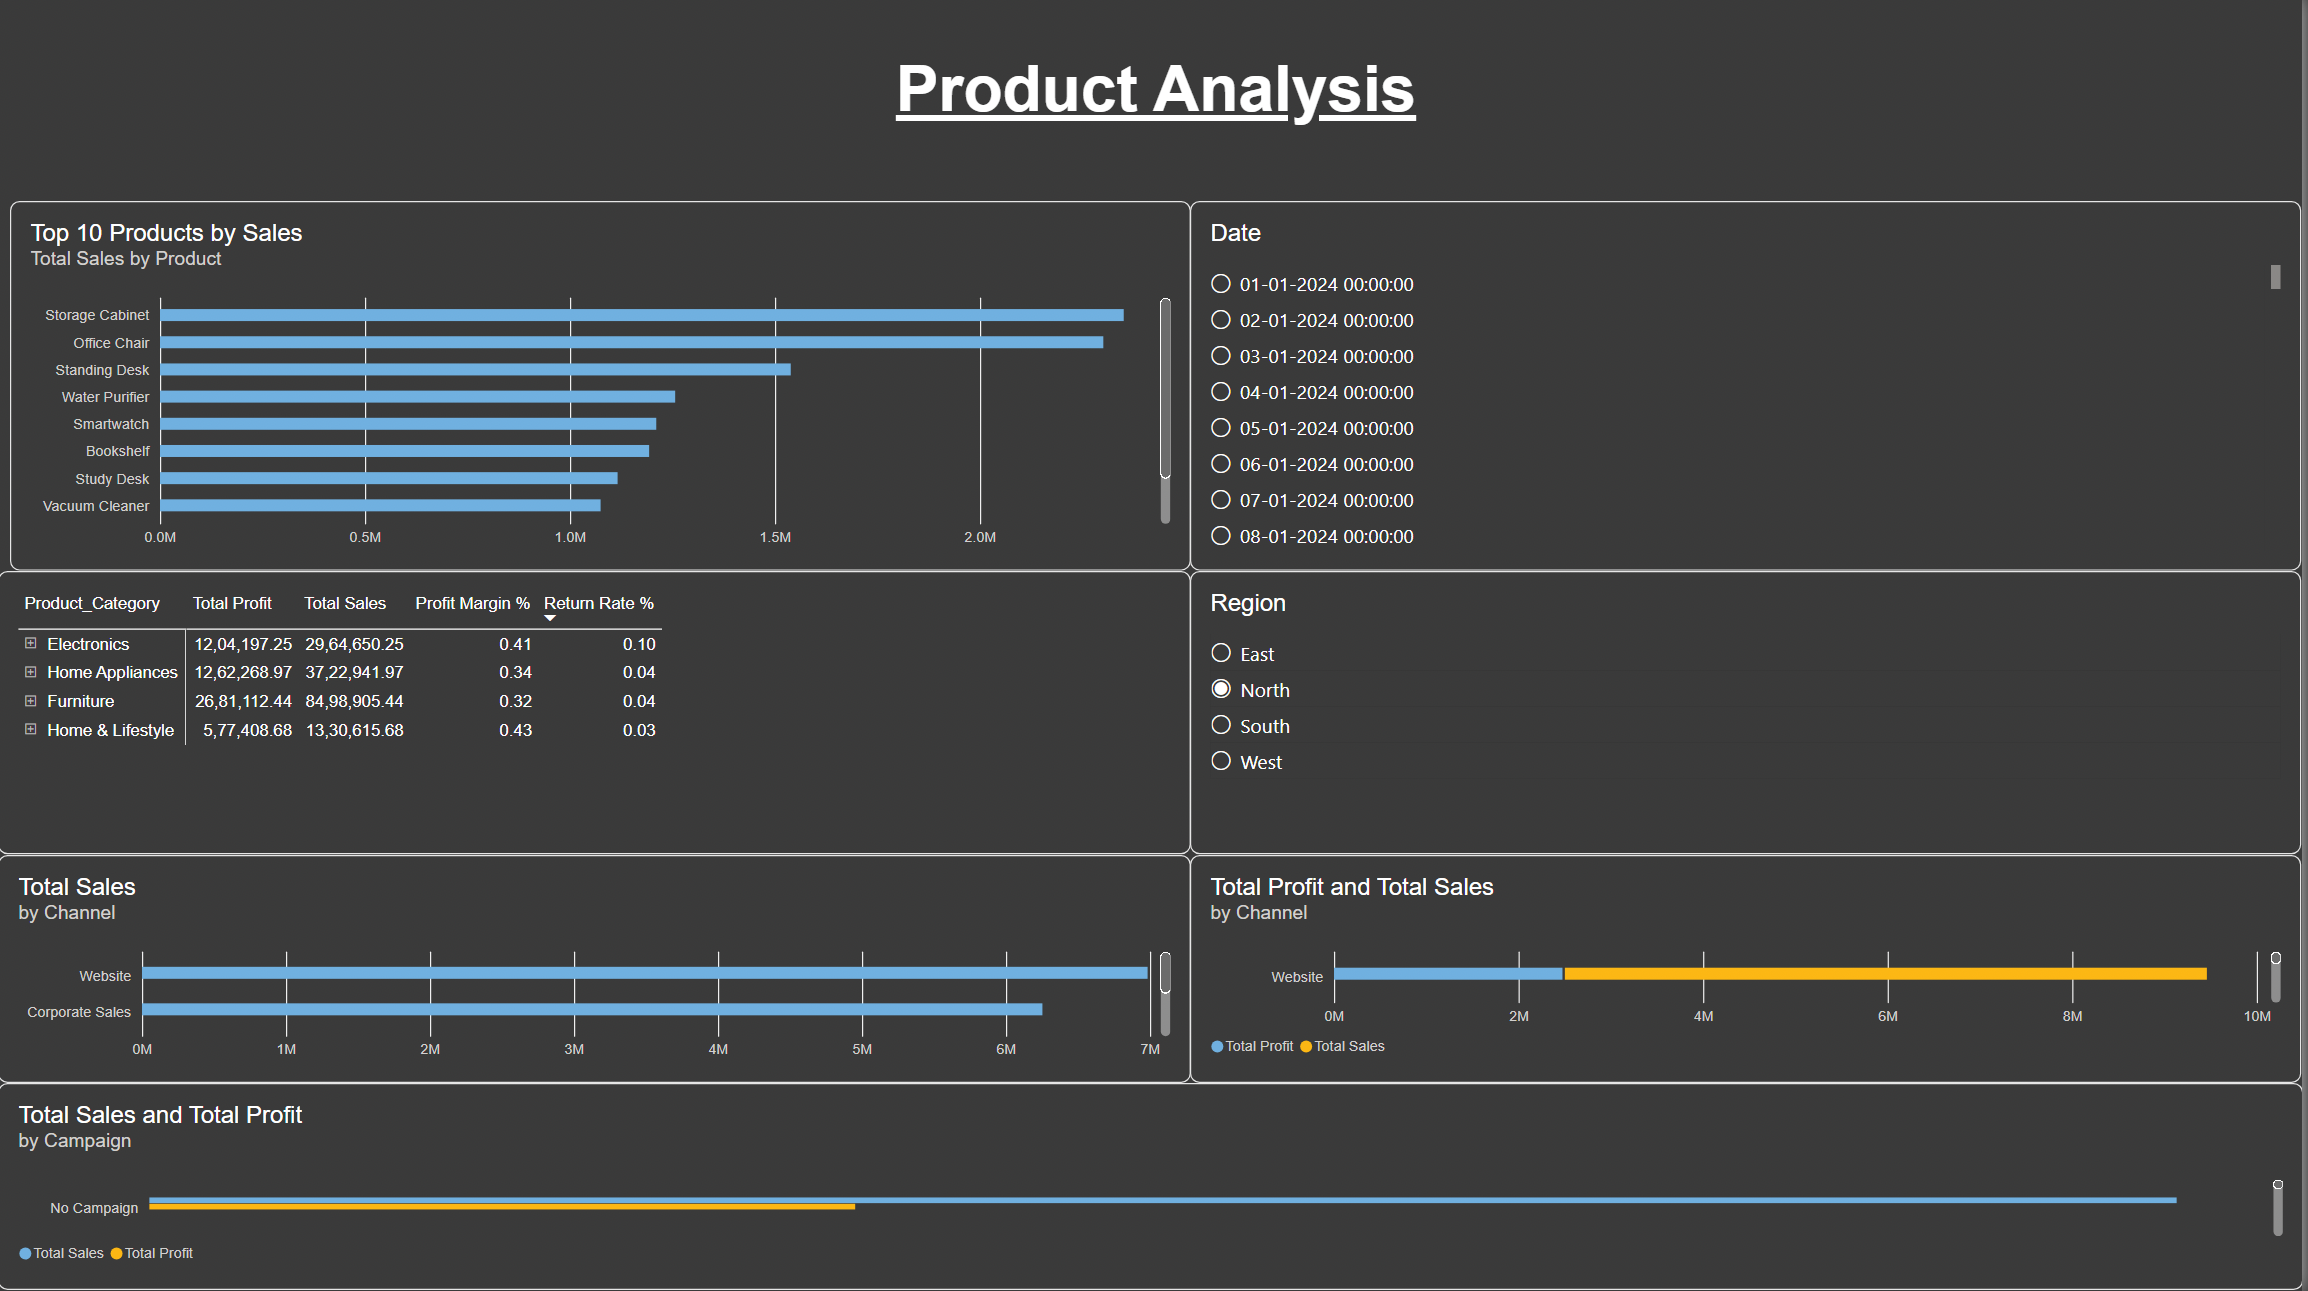

Layout of this report page (visuals, bound fields, positions):
{"tool":"powerbi","page":{"name":"Product & Channel Analysis","canvas":[1920,1080],"ordinal":1},"visuals":[{"type":"textbox","box":[10,0,1910,172.5],"z":0},{"type":"barChart","title":"Top 10 Products by Sales","fields":{"Category":["ProductMasterTable.Product"],"Y":["SalesTransactionsTable.Total Sales"]},"box":[10,172,984,308],"z":1000},{"type":"pivotTable","fields":{"Rows":["ProductMasterTable.Product_Category","ProductMasterTable.Product"],"Values":["SalesTransactionsTable.Total Profit","SalesTransactionsTable.Total Sales","SalesTransactionsTable.Profit Margin %","SalesTransactionsTable.Return Rate %"]},"box":[0,480,994,236],"z":2000},{"type":"clusteredBarChart","fields":{"Category":["SalesTransactionsTable.Channel"],"Y":["SalesTransactionsTable.Total Sales"]},"box":[0,716,994,190],"z":3000},{"type":"clusteredBarChart","fields":{"Category":["SalesTransactionsTable.Campaign"],"Y":["SalesTransactionsTable.Total Sales","SalesTransactionsTable.Total Profit"]},"box":[0,906.1,1921.2,172.7],"z":4000},{"type":"listSlicer","fields":{"Values":["DateTable.Date"]},"box":[994,172,926,308],"z":5000},{"type":"listSlicer","fields":{"Values":["SalesTransactionsTable.Region"]},"box":[994,480,926,236],"z":6000},{"type":"barChart","fields":{"Y":["SalesTransactionsTable.Total Profit","SalesTransactionsTable.Total Sales"],"Category":["SalesTransactionsTable.Channel"]},"box":[994,716,926,190],"z":7000}]}

Visuals, with their boxes in screenshot pixels (x1, y1, x2, y2), scaled from the page's 1920x1080 canvas onto the 2308x1291 screenshot:
textbox: BBox(12, 0, 2307, 206)
"Top 10 Products by Sales" barChart: BBox(12, 206, 1195, 574)
pivotTable - ProductMasterTable.Product_Category x ProductMasterTable.Product: BBox(0, 574, 1195, 856)
clusteredBarChart - SalesTransactionsTable.Channel x SalesTransactionsTable.Total Sales: BBox(0, 856, 1195, 1083)
clusteredBarChart - SalesTransactionsTable.Campaign x SalesTransactionsTable.Total Sales: BBox(0, 1083, 2307, 1290)
listSlicer - DateTable.Date: BBox(1195, 206, 2307, 574)
listSlicer - SalesTransactionsTable.Region: BBox(1195, 574, 2307, 856)
barChart - SalesTransactionsTable.Total Profit x SalesTransactionsTable.Total Sales: BBox(1195, 856, 2307, 1083)
